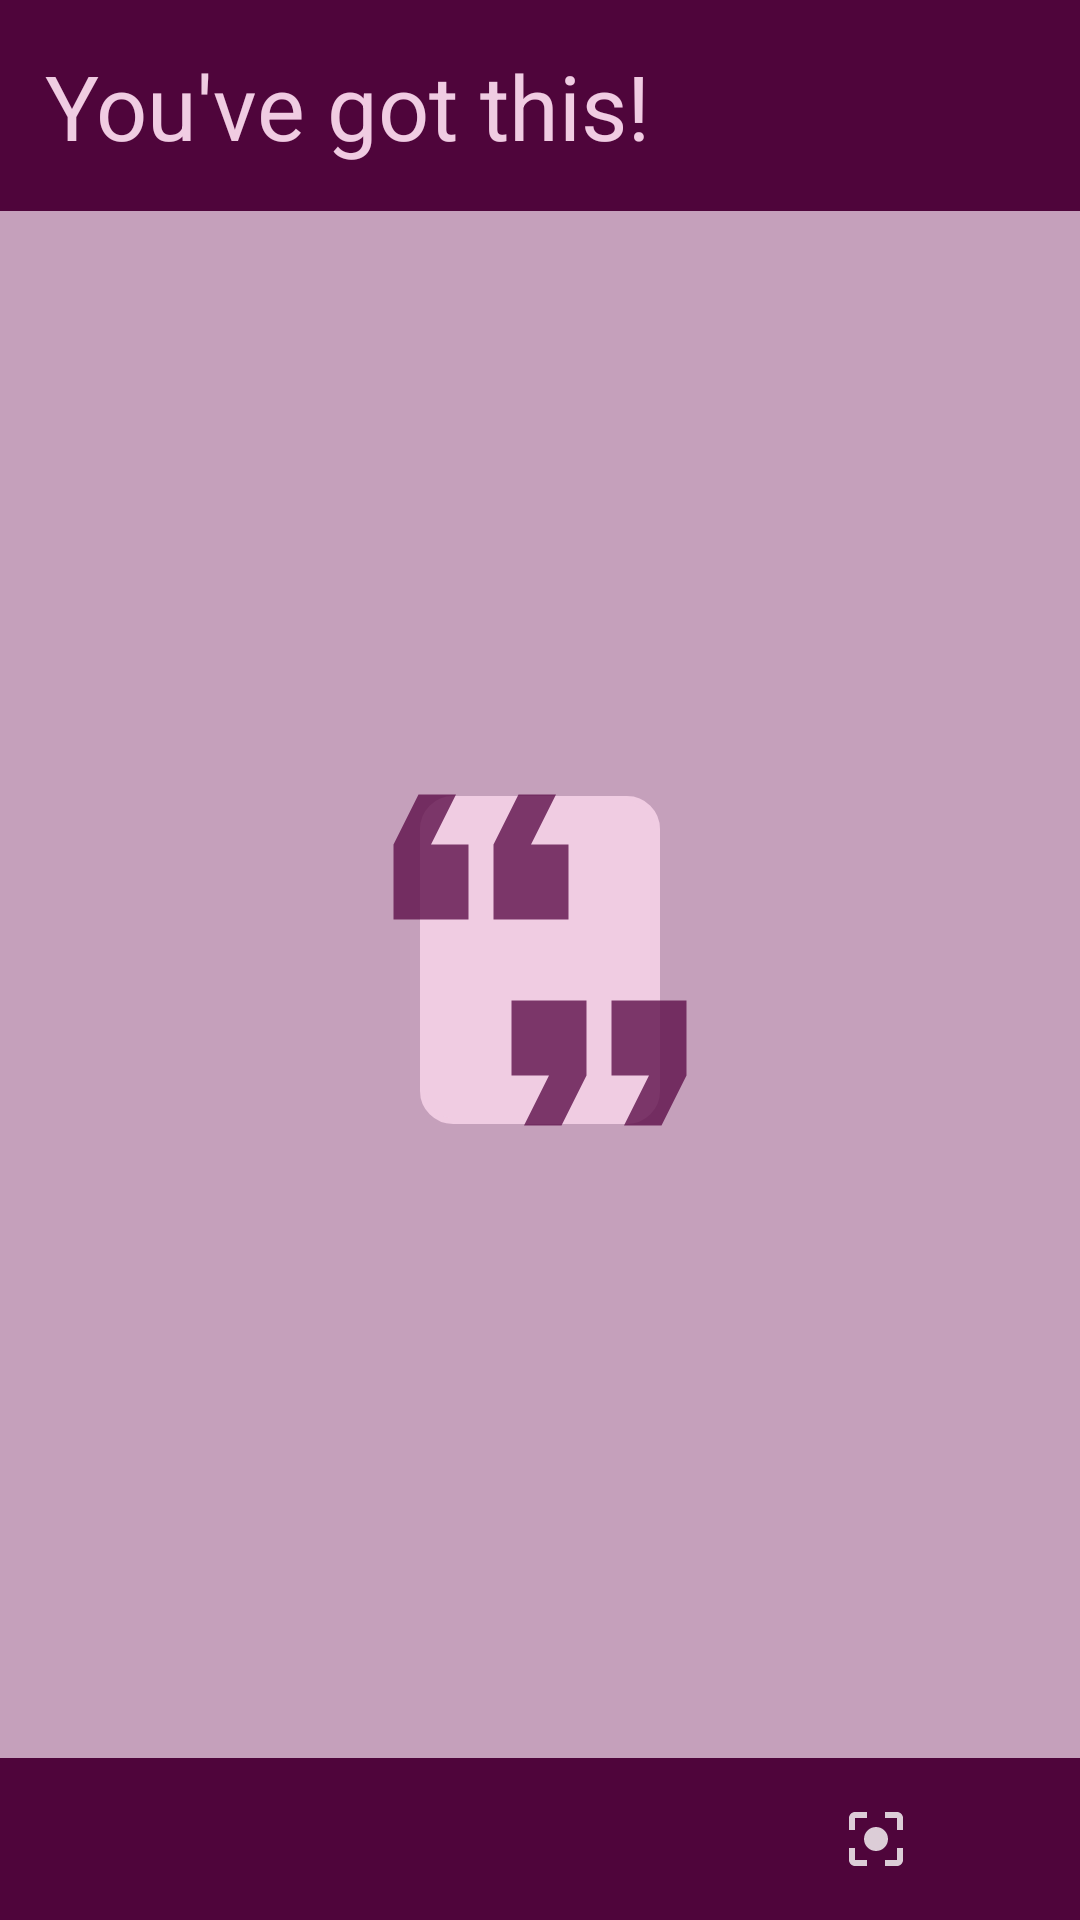

Point at icon controls on the screen. Image size 1080w x 1920h, points as [x,y].
Focus Mode Tab: [876,1839]
